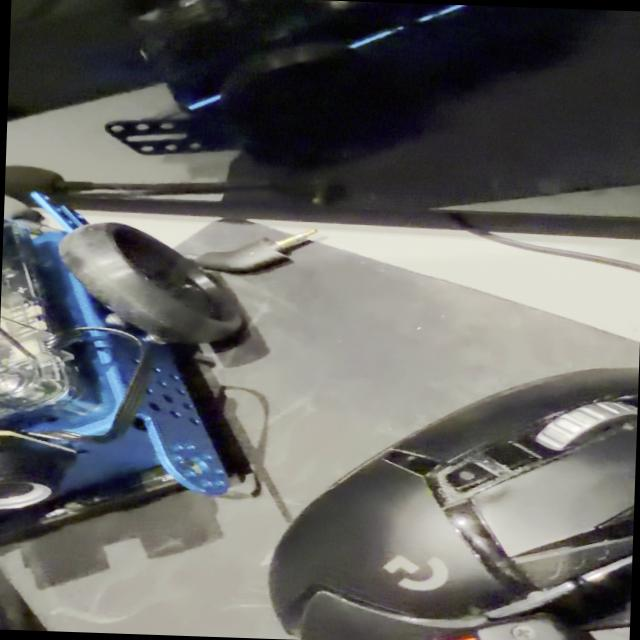mbot-detection: (0, 180, 255, 562)
